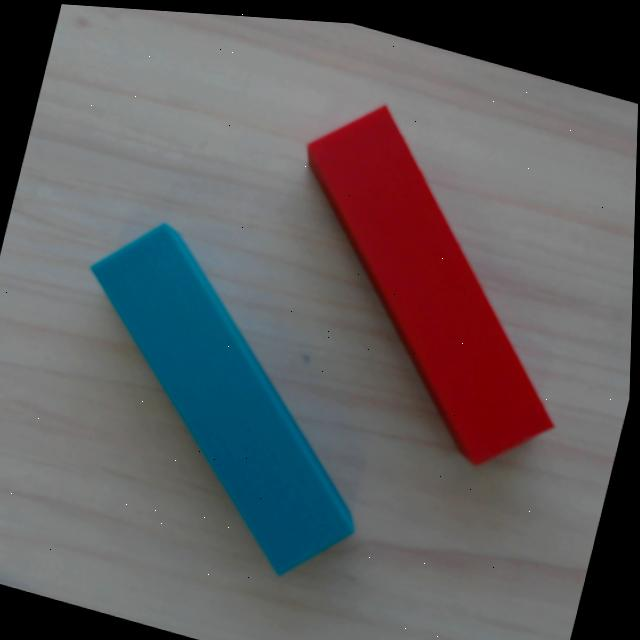Balok-Hijau-1002525: (89, 219, 359, 577)
Balok-Merah-1002525: (299, 104, 554, 470)
